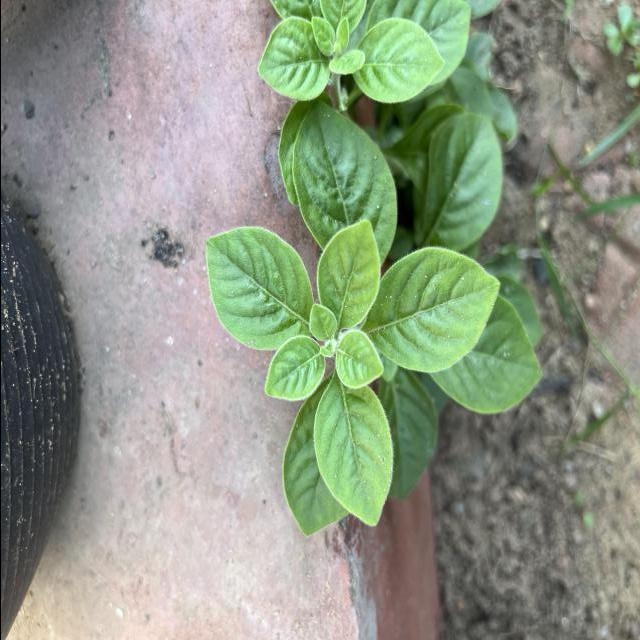Aerva lanata: (362, 242, 503, 376), (202, 224, 314, 354), (309, 374, 396, 530), (313, 216, 382, 332), (260, 332, 326, 404), (332, 327, 384, 392)
